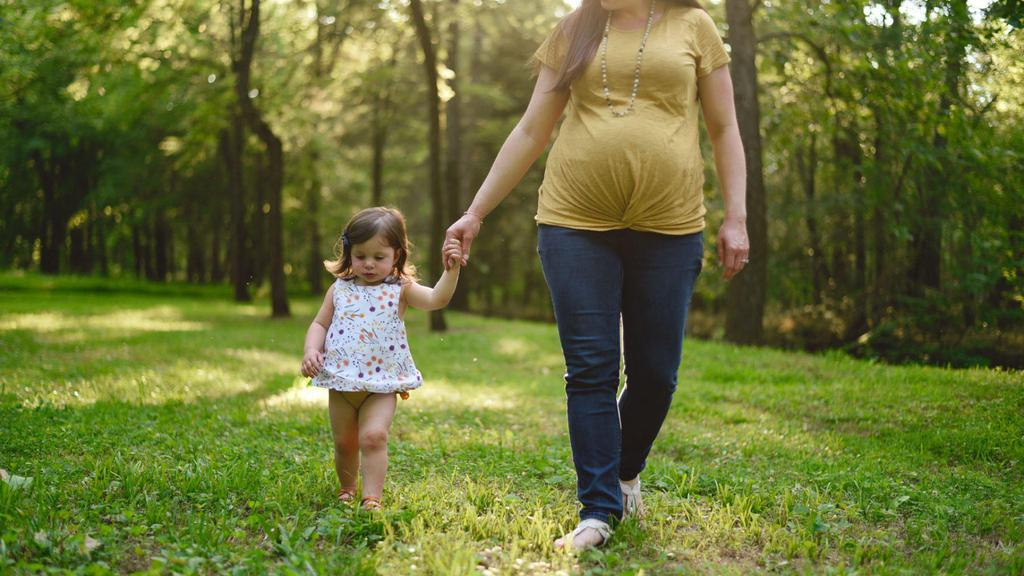child: (291, 204, 466, 513)
